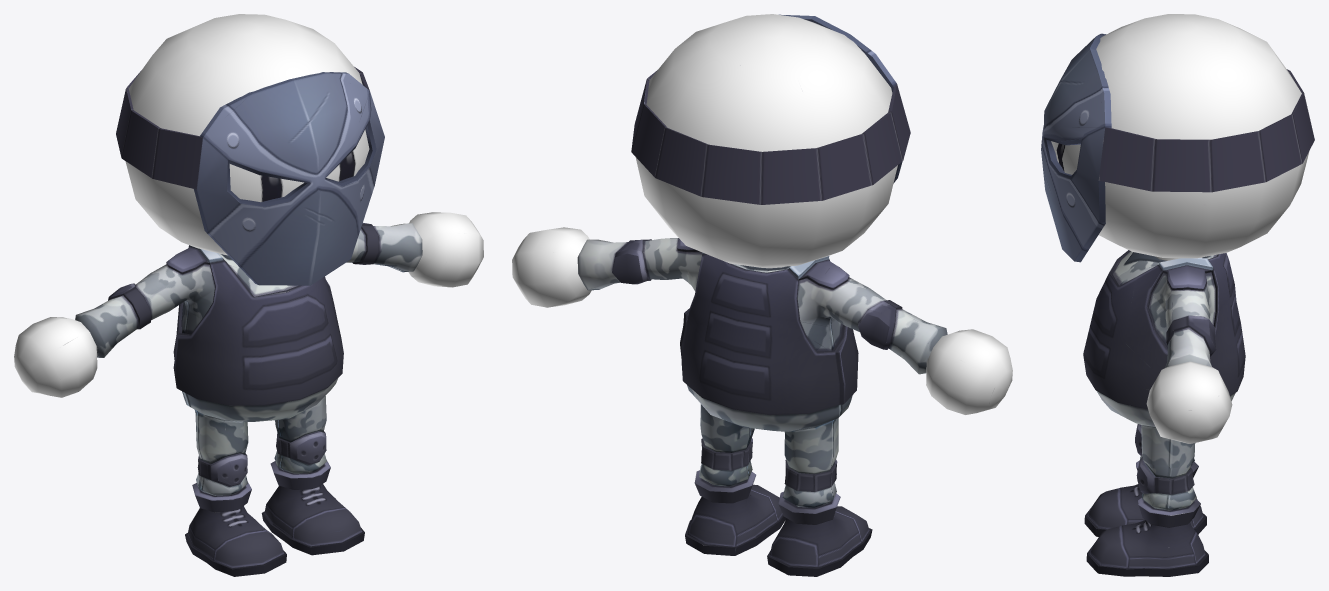
The model's file is ShotgunBoss.fbx.
The picture shows the model from 3 angles, left to right: view 1: azimuth 30°, elevation 25°; view 2: azimuth 150°, elevation 25°; view 3: azimuth 270°, elevation 25°; orthographic projection. The views are drawn at different scales.
Parts seen in each view (by area): view 1: ShotgunBoss; view 2: ShotgunBoss; view 3: ShotgunBoss.
Part boxes in pixels (left/top/right/bottom): ShotgunBoss: left=14, top=14, right=483, bottom=576; ShotgunBoss: left=512, top=14, right=1012, bottom=576; ShotgunBoss: left=1041, top=14, right=1314, bottom=576.
Size of the model in its own units: 251 by 263 by 127.
Materials: 1 (1 with a texture image).
